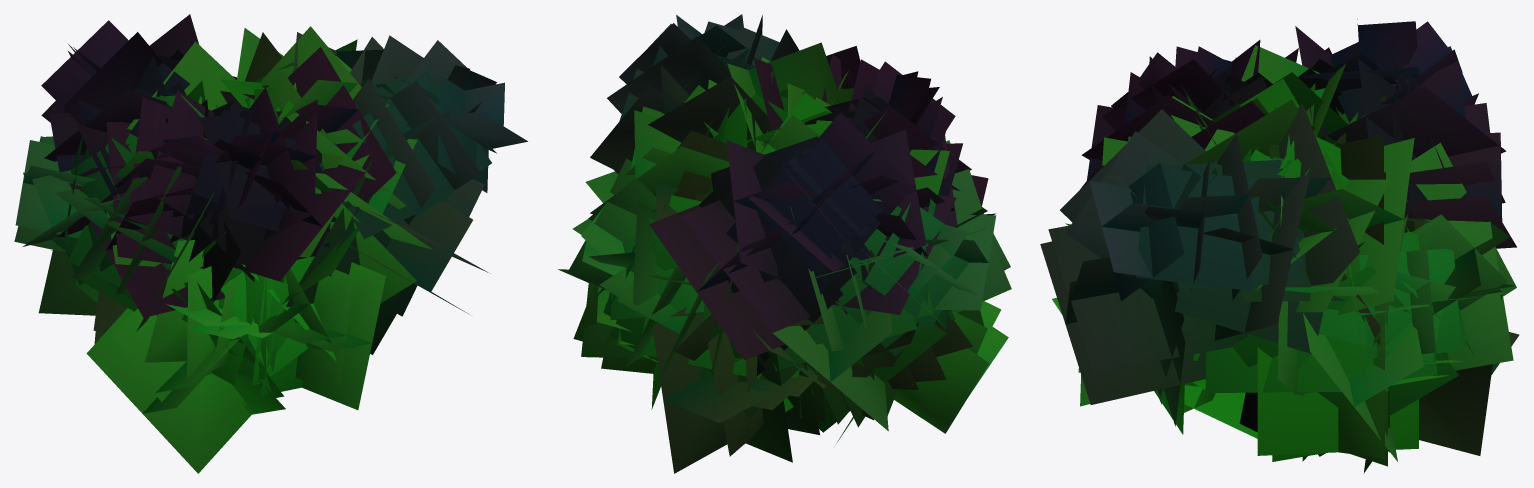
Rendered from MO_Bush-1.fbx.
3 views of the same model, side by side, from view 1: azimuth 30°, elevation 25°; view 2: azimuth 150°, elevation 25°; view 3: azimuth 270°, elevation 25° (orthographic). The views are drawn at different scales.
Visible parts, largest first — view 1: Bush_Leafs; view 2: Bush_Leafs; view 3: Bush_Leafs, Bush_Body.
Part boxes in pixels (x1,y1,x2,y2): Bush_Leafs: [14, 14, 527, 473]; Bush_Leafs: [558, 14, 1011, 473]; Bush_Leafs: [1040, 19, 1519, 473]; Bush_Body: [1239, 392, 1257, 431].
Size of the model in its own units: 3.77 by 3.2 by 3.36.
